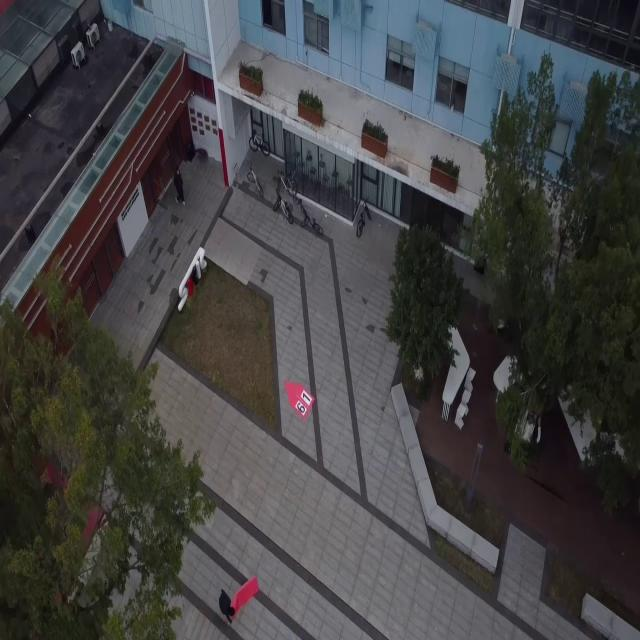-sign-: (283, 380, 315, 422)
